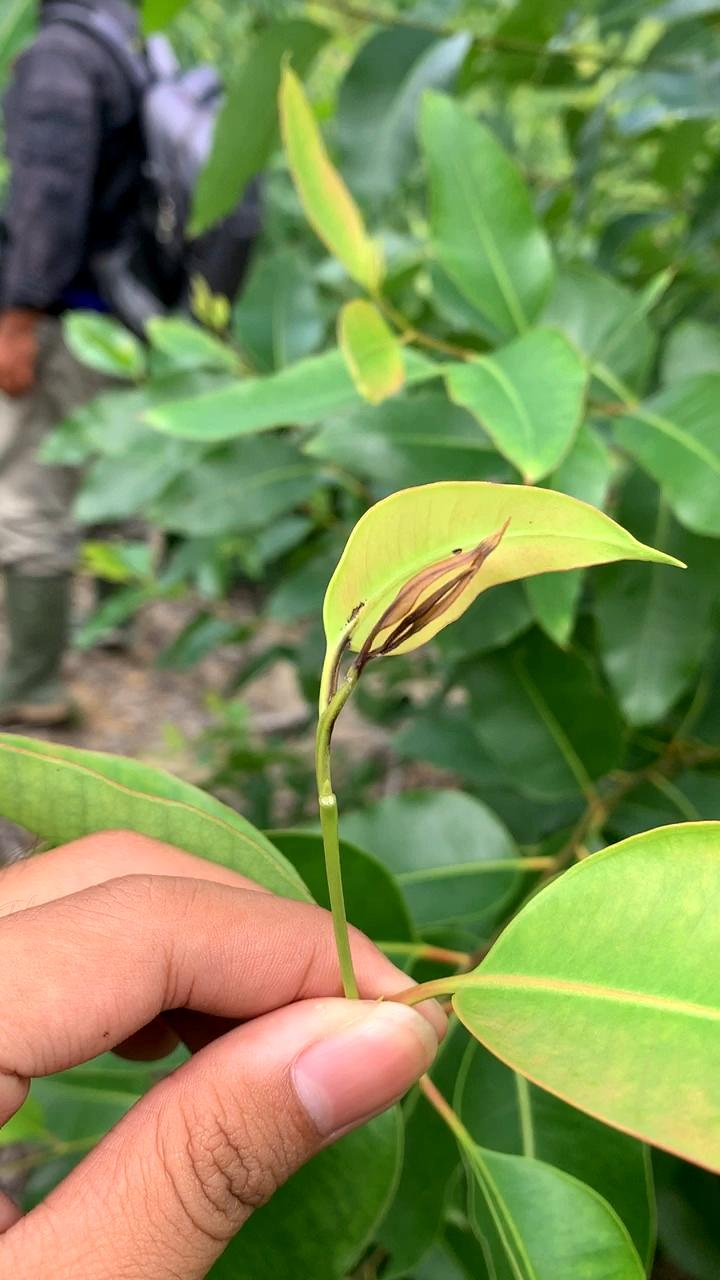Helopeltis-Withered Sprout: (325, 506, 528, 695)
